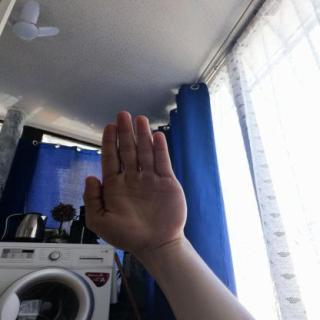SEEN: (72, 104, 195, 259)
